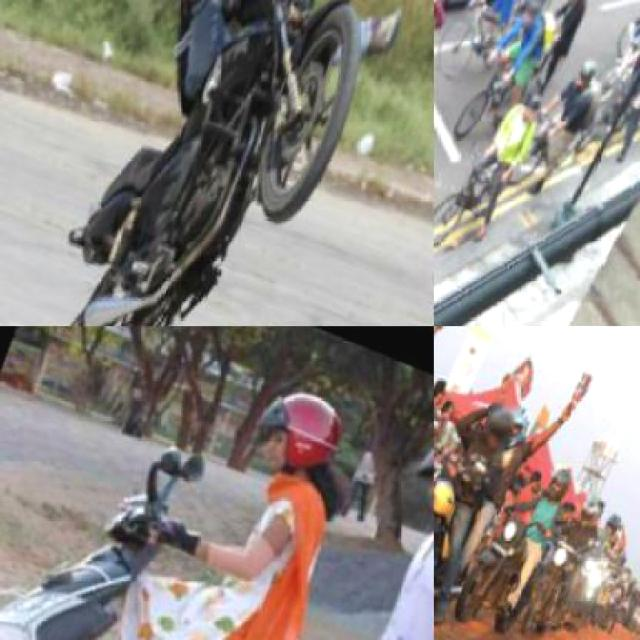With Helmet: (233, 363, 362, 502), (391, 412, 432, 545), (474, 392, 523, 459), (542, 456, 580, 504), (576, 481, 606, 530), (518, 80, 550, 125), (574, 46, 603, 88), (517, 0, 548, 32)
